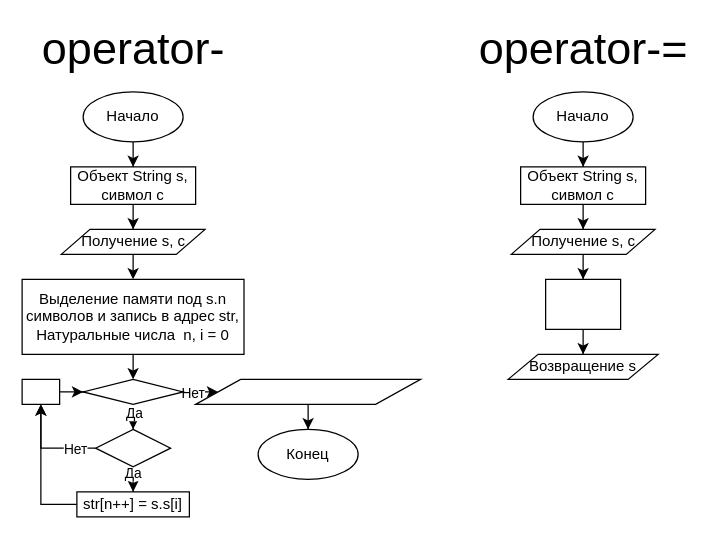
Image size: 718x539. Some labels were removed from this diagram. Each missing label, with the box of its shape:
*d = s.s s = s - c delete[] d: (544, 278, 621, 329)
i < s.n: (82, 378, 183, 404)
i++: (21, 378, 60, 404)
s.s[i] != c: (94, 428, 171, 467)
Возвращение String(str): (194, 378, 421, 404)
